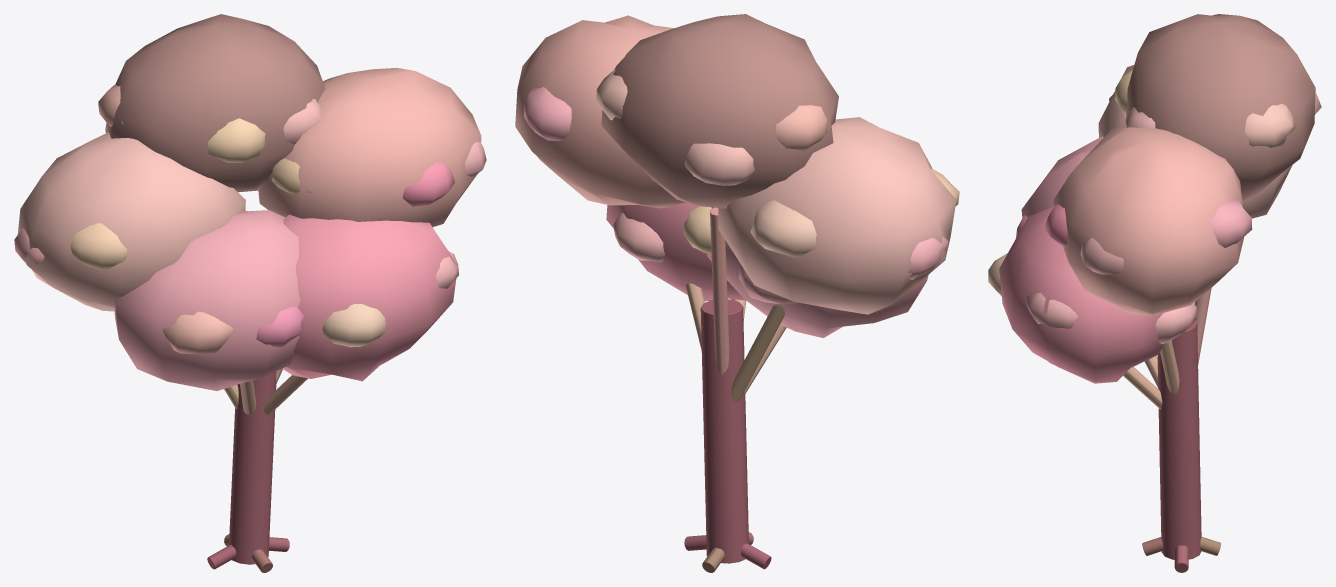
The model's file is WC_RIVER_Tree_Medium_A.glb.
The picture shows the model from 3 angles, left to right: view 1: azimuth 30°, elevation 25°; view 2: azimuth 150°, elevation 25°; view 3: azimuth 270°, elevation 25°; orthographic projection. The views are drawn at different scales.
Visible parts, largest first — view 1: WC_RIVER_Tree_Medium_A_RenderMesh; view 2: WC_RIVER_Tree_Medium_A_RenderMesh; view 3: WC_RIVER_Tree_Medium_A_RenderMesh.
Part boxes in pixels (left/top/right/bottom): WC_RIVER_Tree_Medium_A_RenderMesh: left=14, top=14, right=486, bottom=572; WC_RIVER_Tree_Medium_A_RenderMesh: left=515, top=14, right=959, bottom=572; WC_RIVER_Tree_Medium_A_RenderMesh: left=988, top=14, right=1321, bottom=572.
Bounding box in the file's own units: 3.17 × 3.74 × 2.15.
